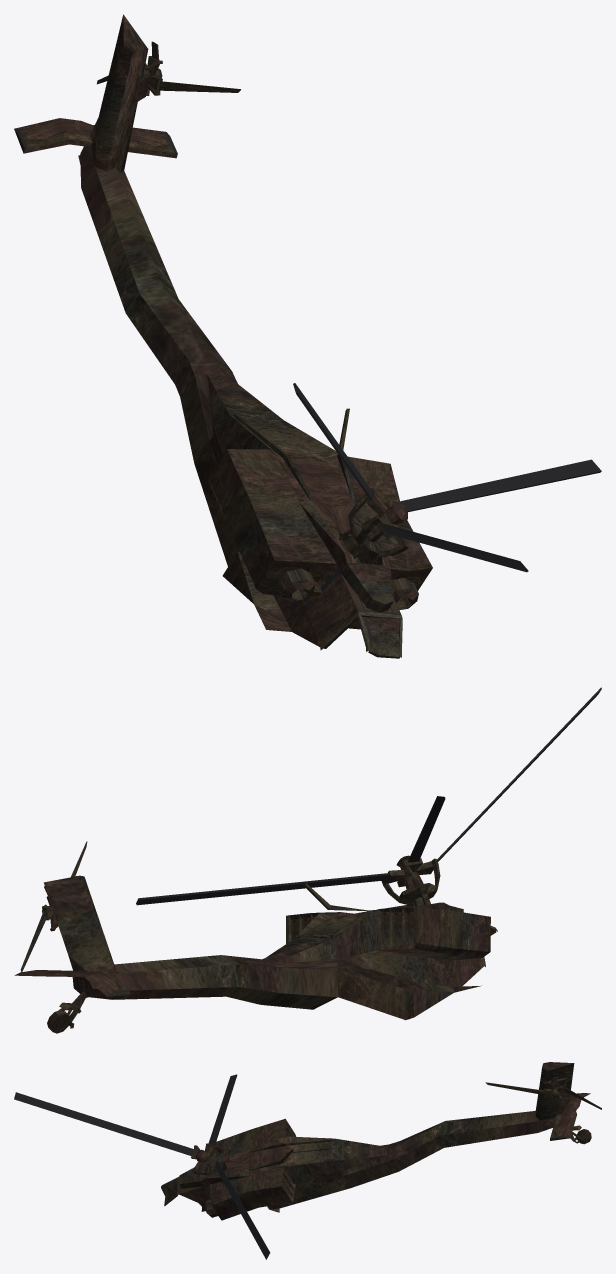
The model's file is zhishengji01.fbx.
3 renders of one model, top to bottom at view 1: azimuth 30°, elevation 25°; view 2: azimuth 150°, elevation 25°; view 3: azimuth 270°, elevation 25°, orthographic. The views are drawn at different scales.
Parts seen in each view (by area): view 1: Helicopters; view 2: Helicopters; view 3: Helicopters.
Part boxes in pixels (x1,y1,x2,y2): Helicopters: (14, 14, 601, 658); Helicopters: (14, 687, 601, 1033); Helicopters: (14, 1062, 601, 1259).
Size of the model in its own units: 819 by 680 by 2065.
Materials: 1 (1 with a texture image).
